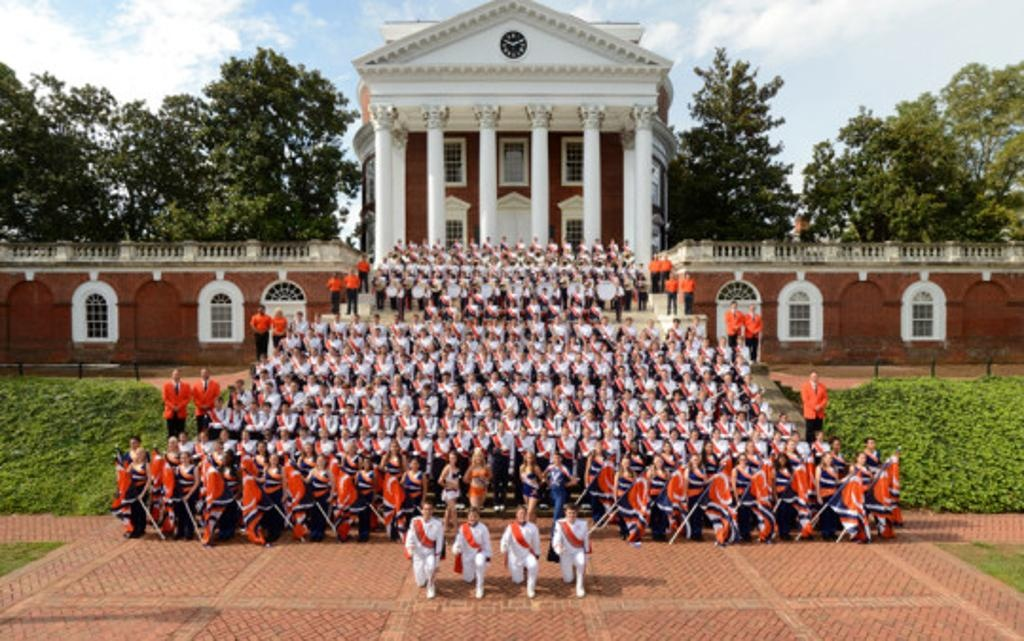human_face: (566, 509, 576, 521), (516, 508, 524, 522), (423, 504, 433, 514), (180, 452, 188, 464), (469, 510, 477, 522), (653, 456, 661, 468), (269, 453, 277, 464), (173, 370, 181, 380), (200, 432, 208, 442), (257, 442, 265, 452), (648, 429, 656, 439), (662, 443, 670, 453), (704, 443, 712, 453), (867, 439, 875, 449), (178, 432, 186, 441), (594, 442, 602, 451), (747, 442, 753, 454), (832, 438, 838, 450), (858, 452, 864, 464), (474, 452, 480, 463), (306, 375, 314, 383), (410, 460, 418, 468), (448, 454, 456, 462), (382, 406, 390, 414), (482, 409, 490, 417), (598, 388, 606, 396), (816, 432, 824, 440), (200, 369, 206, 379), (129, 438, 135, 448), (317, 456, 323, 466), (390, 443, 396, 453), (670, 430, 676, 440), (692, 456, 698, 466), (739, 455, 745, 465), (788, 441, 794, 451), (824, 453, 830, 463), (646, 468, 652, 478), (290, 380, 296, 389), (280, 431, 286, 440), (319, 428, 325, 437), (422, 406, 428, 415), (577, 389, 583, 398), (506, 409, 512, 418), (498, 425, 504, 434), (626, 431, 632, 440), (713, 428, 719, 437), (680, 460, 686, 469), (302, 405, 308, 414), (264, 384, 270, 392), (263, 404, 269, 412), (220, 430, 226, 438), (224, 453, 230, 461), (305, 445, 311, 453), (342, 430, 348, 438), (376, 430, 384, 436), (348, 446, 354, 454), (364, 459, 370, 467), (397, 428, 403, 436), (418, 428, 424, 436), (439, 429, 445, 437), (457, 425, 463, 433), (479, 426, 485, 434), (318, 384, 324, 392), (342, 384, 348, 392), (428, 342, 434, 350), (394, 378, 400, 386), (374, 375, 380, 383), (323, 406, 329, 414), (402, 406, 408, 414), (444, 408, 450, 416), (526, 454, 532, 462), (528, 342, 534, 350), (481, 352, 487, 360), (498, 352, 504, 360), (519, 352, 525, 360), (546, 344, 552, 352), (491, 373, 497, 381), (514, 374, 520, 382), (476, 388, 482, 396), (528, 386, 534, 394), (586, 412, 592, 420), (540, 429, 546, 437), (562, 426, 568, 434), (583, 428, 589, 436), (660, 370, 666, 378), (724, 374, 730, 382), (660, 412, 666, 420), (696, 411, 702, 419), (720, 413, 726, 421), (758, 414, 764, 422), (810, 373, 816, 381), (604, 428, 610, 436), (735, 433, 741, 441), (774, 433, 780, 441), (792, 433, 798, 441), (630, 442, 636, 450), (622, 459, 628, 467), (778, 456, 784, 464), (536, 372, 542, 379), (582, 377, 588, 384), (394, 346, 398, 356), (168, 438, 172, 448), (528, 408, 532, 418), (256, 307, 262, 313), (328, 333, 334, 339), (306, 330, 312, 336), (258, 355, 264, 361), (344, 346, 350, 352), (260, 372, 266, 378), (279, 384, 285, 390), (216, 400, 222, 406), (282, 403, 286, 412), (299, 430, 305, 436), (442, 374, 448, 380), (468, 374, 474, 380), (423, 386, 429, 392), (365, 406, 371, 412), (554, 454, 558, 463), (552, 316, 558, 322), (555, 390, 559, 399), (520, 428, 526, 434), (648, 320, 654, 326), (716, 356, 722, 362), (744, 374, 748, 383), (754, 431, 758, 440), (394, 314, 398, 322), (294, 348, 298, 356), (310, 348, 314, 356), (317, 354, 321, 362), (334, 378, 338, 386), (264, 431, 268, 439), (242, 432, 246, 440), (214, 442, 218, 450), (360, 428, 364, 436), (400, 355, 404, 363), (413, 315, 417, 323), (432, 314, 436, 322), (442, 352, 446, 360), (416, 372, 420, 380), (452, 386, 456, 394), (346, 405, 350, 413), (489, 332, 493, 340), (548, 410, 552, 418), (568, 411, 572, 419), (688, 330, 692, 338), (736, 355, 740, 363), (624, 390, 628, 398), (674, 392, 678, 400), (699, 391, 703, 399), (728, 393, 732, 401), (604, 410, 608, 418), (622, 413, 626, 421), (640, 411, 644, 419), (680, 413, 684, 421), (692, 431, 696, 439), (492, 317, 496, 325), (616, 341, 622, 346), (445, 329, 449, 336), (445, 345, 449, 352), (366, 387, 370, 394), (618, 366, 622, 373), (705, 372, 709, 379), (296, 312, 300, 318), (314, 314, 318, 320), (334, 314, 338, 320), (352, 314, 356, 320), (374, 329, 378, 335), (381, 346, 385, 352), (364, 345, 368, 351), (286, 330, 290, 336), (280, 355, 284, 361), (329, 348, 333, 354), (298, 357, 302, 363), (356, 378, 360, 384), (234, 403, 238, 409), (251, 404, 255, 410), (380, 354, 384, 360), (454, 315, 458, 321), (420, 330, 424, 336), (467, 333, 471, 339), (413, 344, 417, 350), (462, 344, 466, 350), (396, 389, 400, 395), (465, 410, 469, 416), (510, 334, 514, 340), (530, 333, 534, 339), (512, 318, 516, 324), (533, 314, 537, 320), (574, 319, 578, 325), (539, 354, 543, 360), (556, 354, 560, 360), (576, 354, 580, 360), (561, 378, 565, 384), (502, 387, 506, 393), (551, 336, 555, 342), (601, 318, 605, 324), (672, 319, 676, 325), (591, 333, 595, 339), (584, 342, 588, 348), (669, 331, 673, 337), (652, 343, 656, 349), (670, 342, 674, 348), (687, 340, 691, 346), (704, 339, 708, 345), (720, 338, 724, 344), (658, 356, 662, 362), (699, 356, 703, 362), (684, 374, 688, 380), (602, 378, 606, 384), (650, 392, 654, 398), (754, 394, 758, 400), (739, 413, 743, 419), (781, 414, 785, 420), (373, 315, 377, 320), (336, 356, 340, 361), (621, 335, 625, 340), (275, 310, 279, 314), (284, 376, 288, 380), (564, 344, 568, 348), (736, 338, 740, 342), (398, 330, 400, 336), (356, 355, 358, 361), (462, 354, 464, 360), (626, 319, 628, 325), (694, 316, 696, 322), (642, 332, 644, 338), (635, 342, 637, 348), (603, 344, 605, 350), (596, 354, 598, 360), (618, 356, 620, 362), (636, 354, 638, 360), (640, 368, 642, 374), (350, 330, 352, 335), (236, 382, 238, 387), (678, 356, 680, 361), (424, 354, 426, 358), (570, 337, 572, 341), (474, 317, 474, 321)
